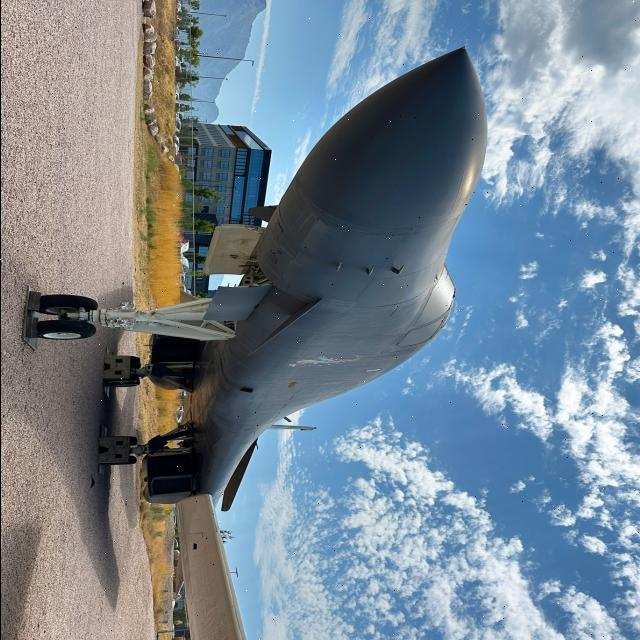B1: (0, 27, 554, 539)
